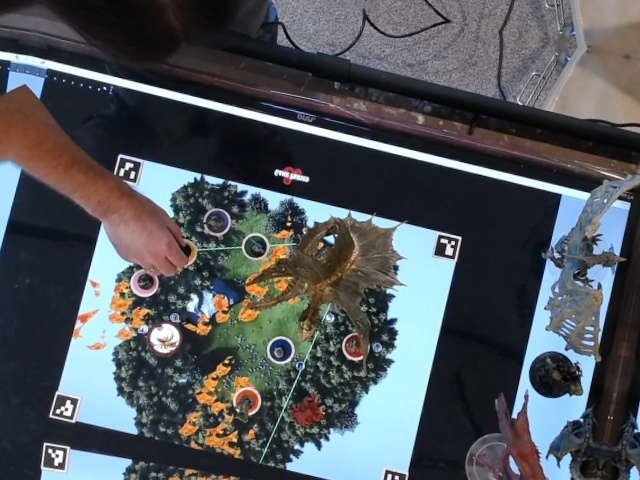blue: (263, 327, 301, 368)
green: (237, 227, 276, 265)
orange: (223, 380, 272, 422)
pink: (124, 262, 164, 300)
red: (336, 326, 377, 366)
violet: (198, 203, 236, 239)
yellow: (159, 232, 204, 273)
